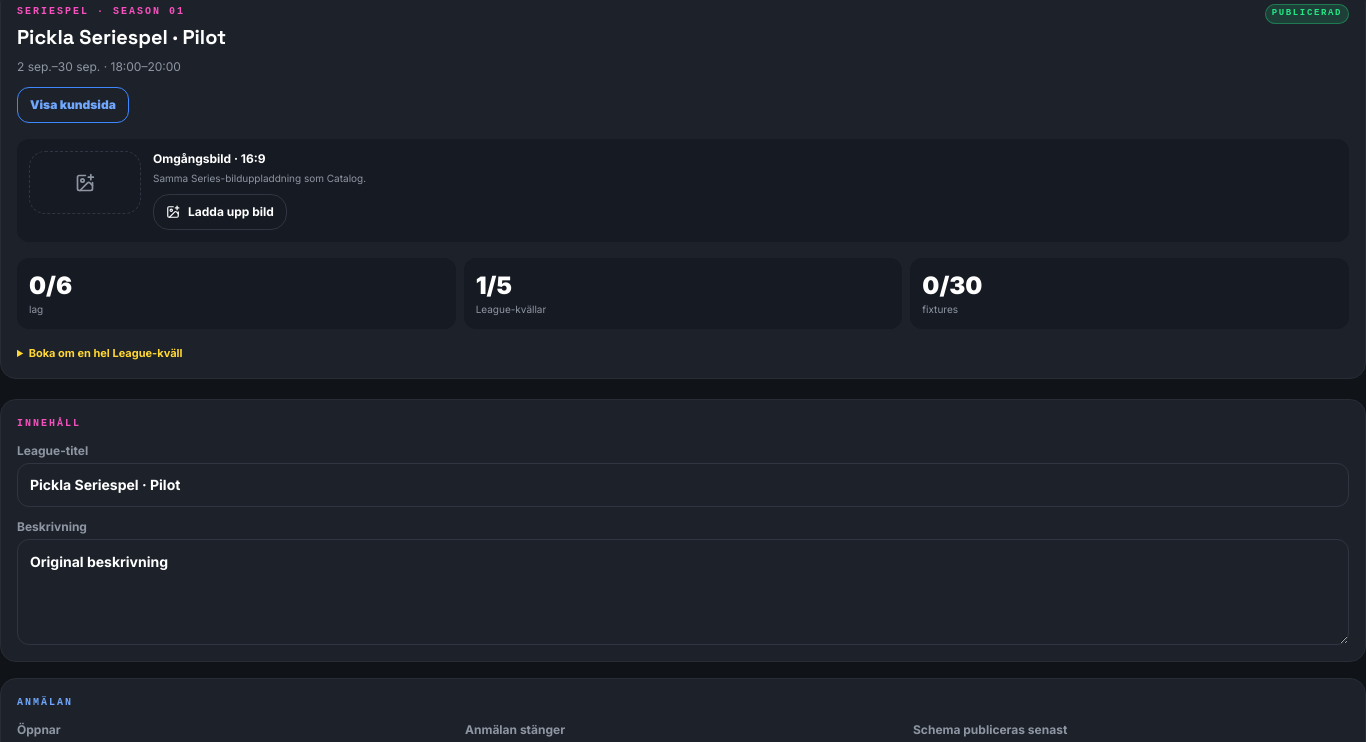
Test: League Admin artwork and date entry › edits safe League Catalog fields in one Save and links published customer truth
Later steps or results of the test are not shown.
Replace the text in the field labelled "League-titel" with "Pickla Seriespel · Höst" at [683, 484], box [17, 462, 1349, 506]
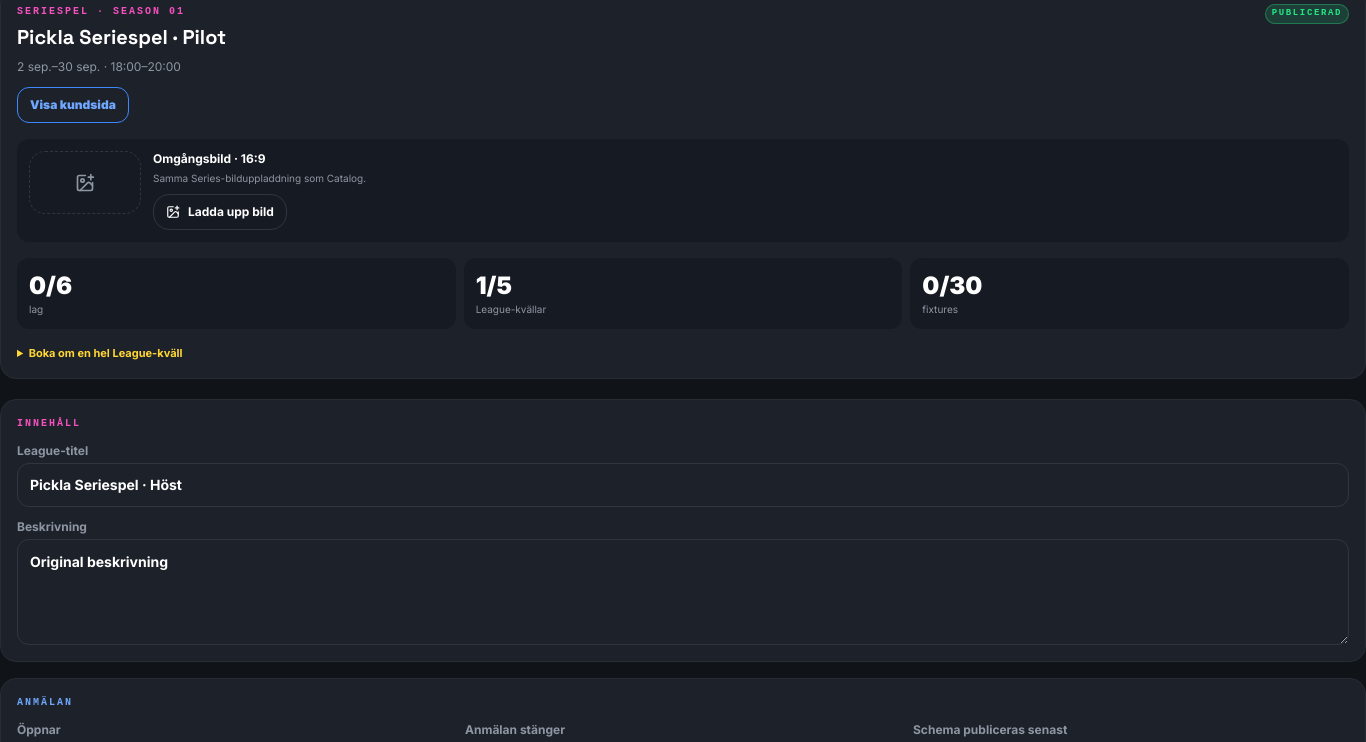
Replace the text in the text box named "League-beskrivning" with "Ny kundbeskrivning" at [683, 592], box [17, 538, 1349, 644]
(page scrolled)
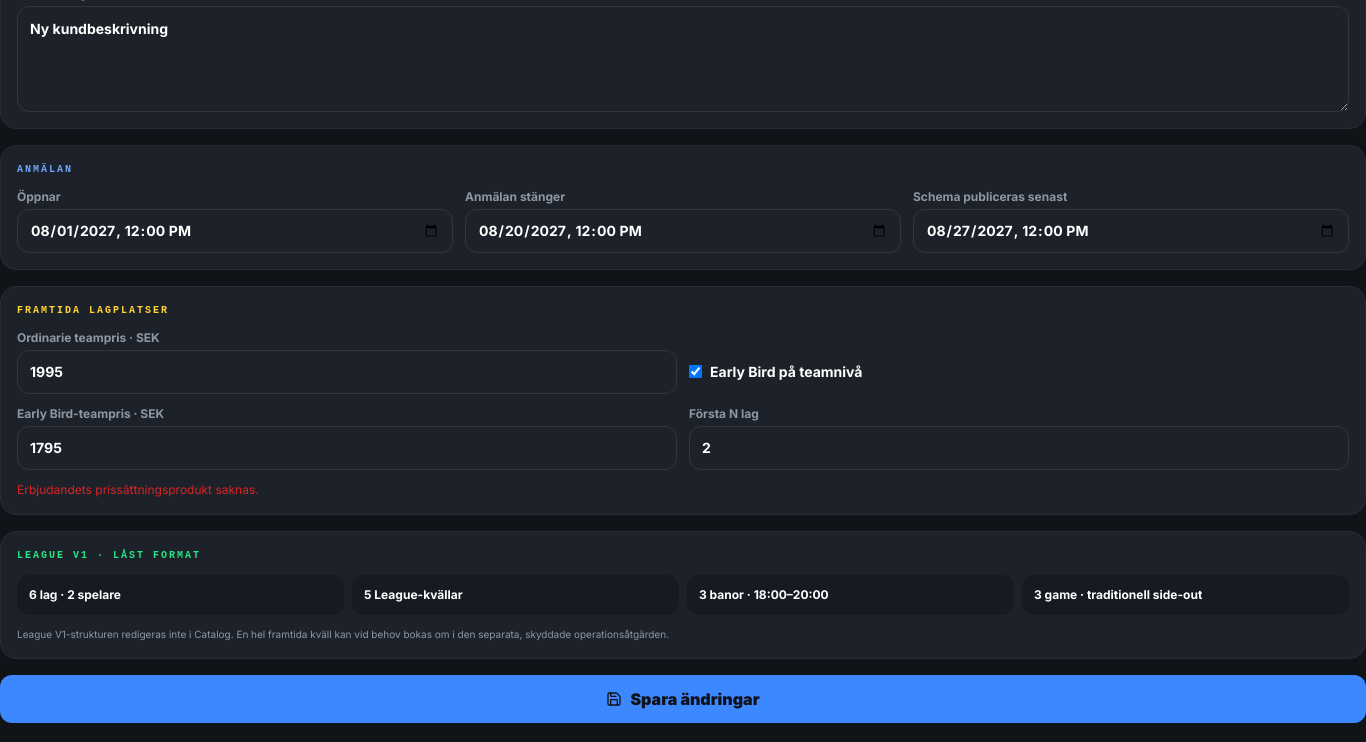
Replace the text in the field labelled "Ordinarie teampris" with "2095" at [347, 372], box [17, 350, 677, 394]
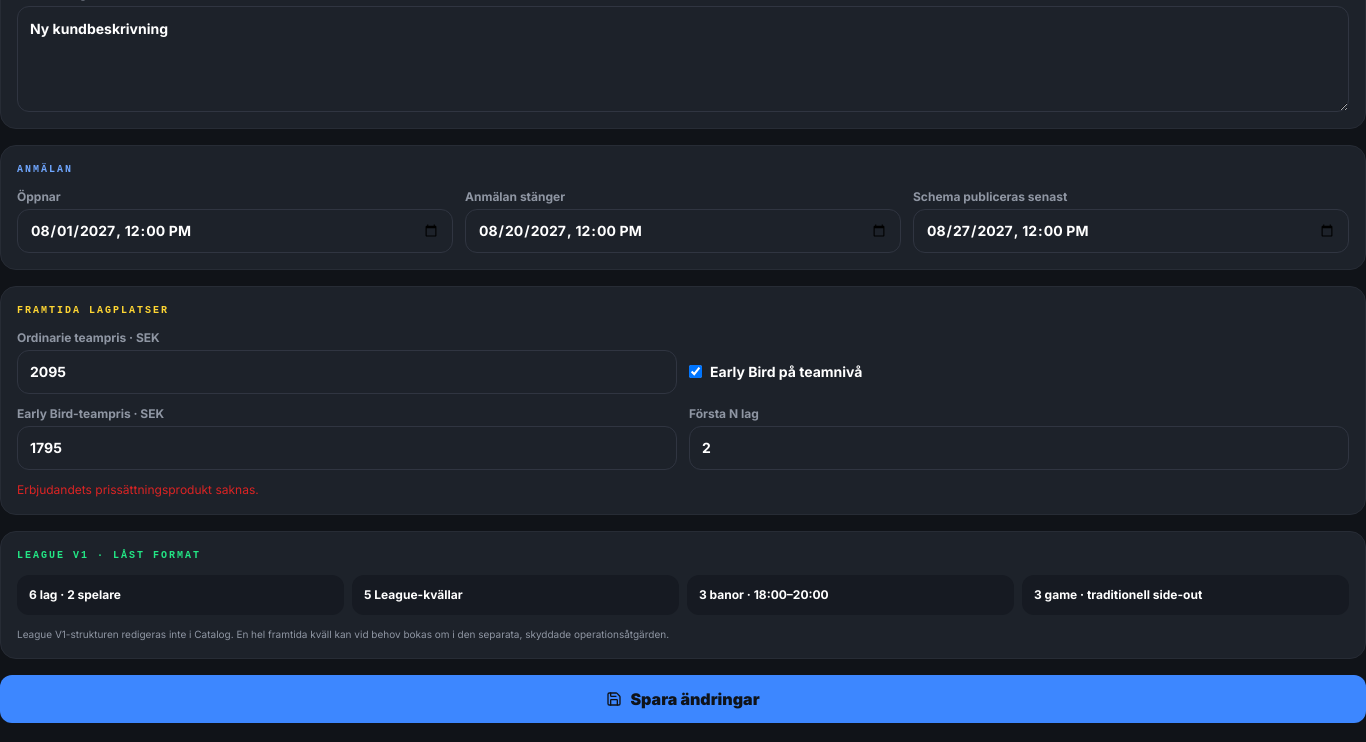
Replace the text in the field labelled "Early Bird-teampris" with "1895" at [347, 448], box [17, 426, 677, 470]
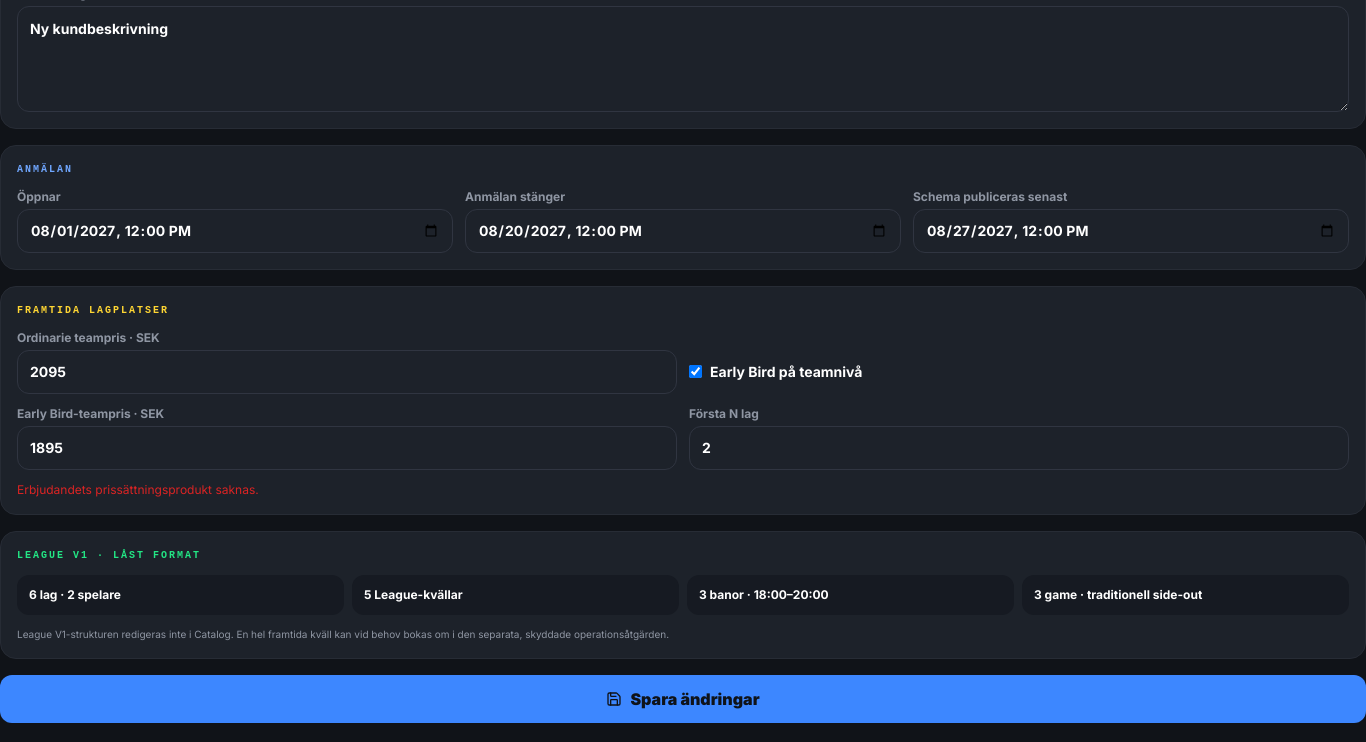
Replace the text in the field labelled "Första N lag" with "3" at [1019, 448], box [689, 426, 1349, 470]
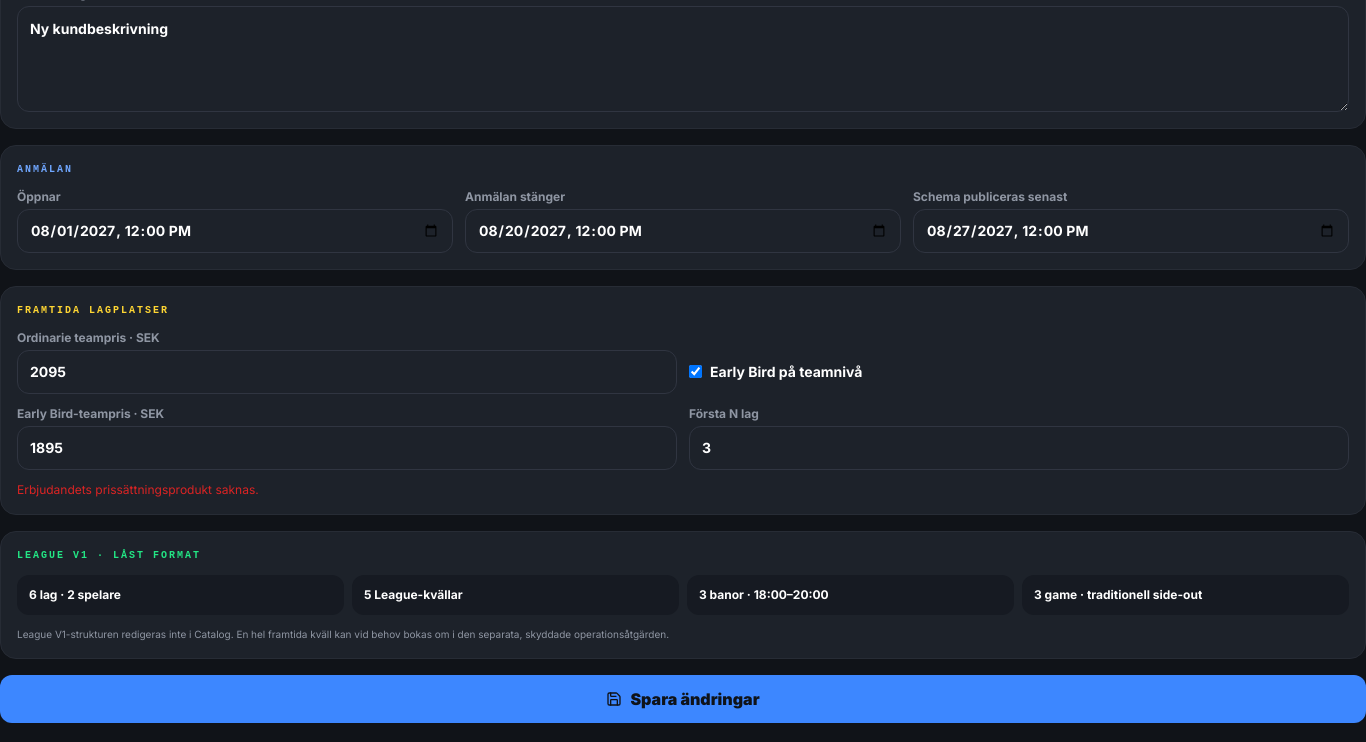
Now the button "Spara ändringar" is enabled, box [0, 674, 1365, 722]
